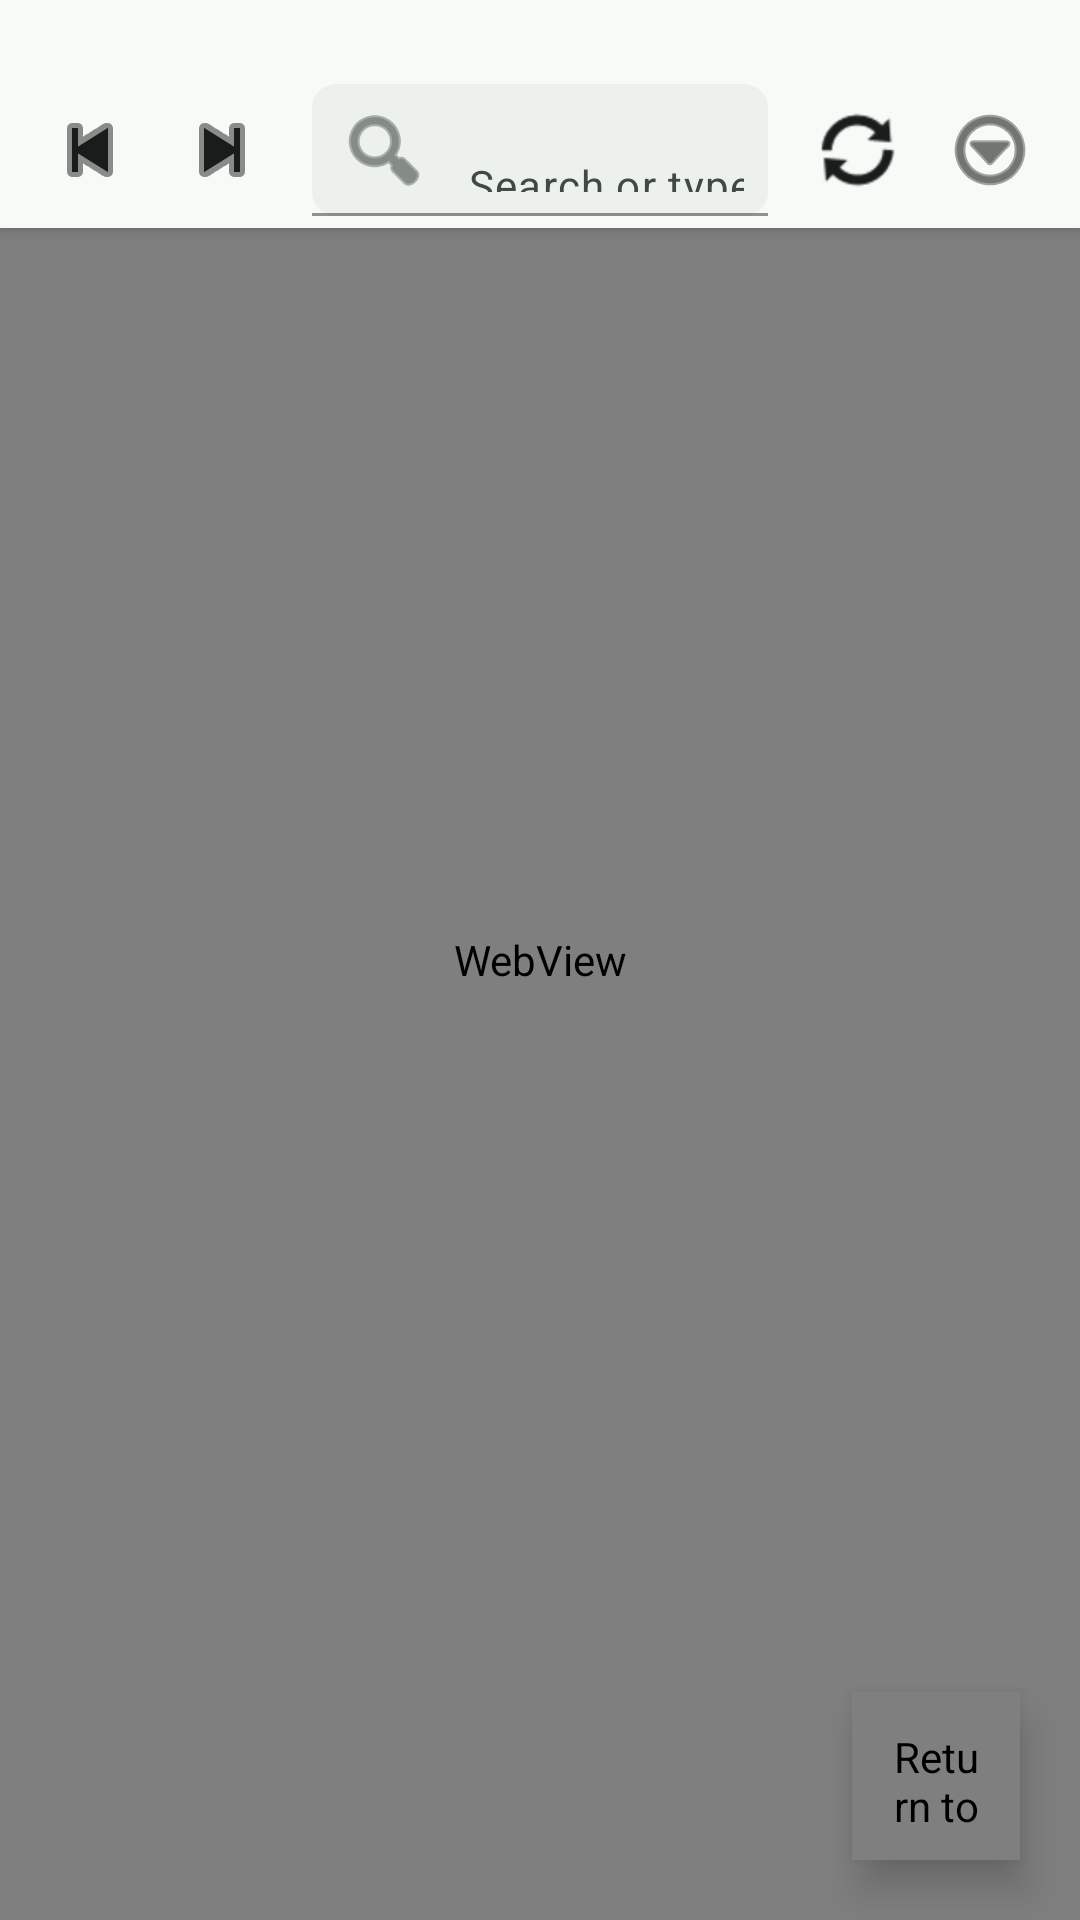

Where to tap for icons on this 1080px×1920px app screen, as point (x, y):
Back: point (90, 150)
Forward: point (222, 150)
More options: point (990, 150)
Refresh: point (858, 150)
